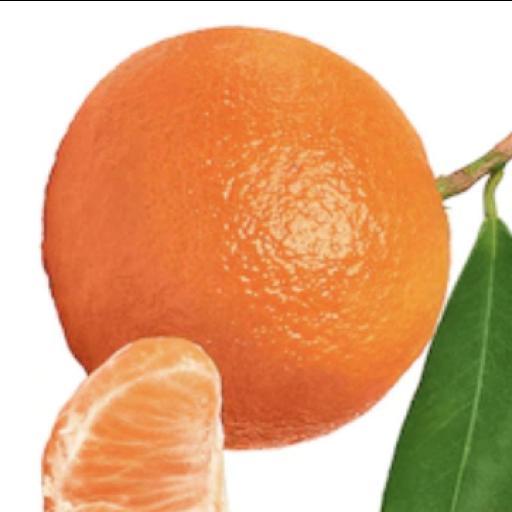orange: (43, 28, 447, 449), (43, 339, 223, 511)
